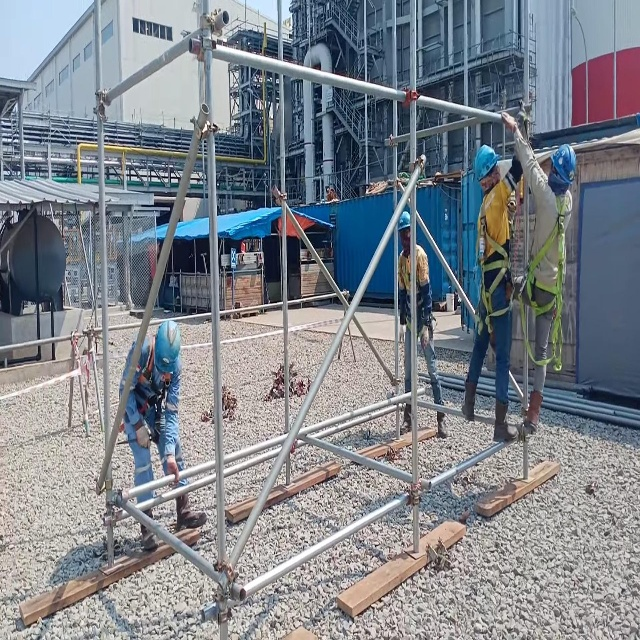Arnes_seguridad: (515, 181, 571, 373), (474, 185, 512, 339), (130, 332, 172, 447)
